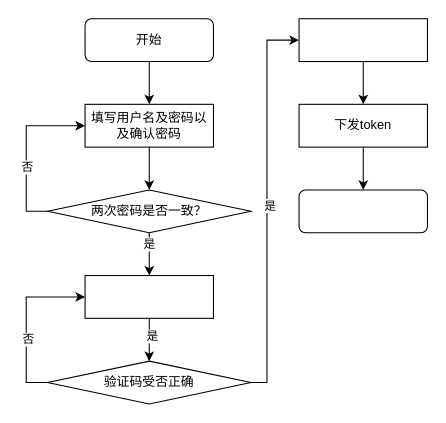
The diagram is 446 pixels wide and 423 high, and some of its shapes have lost their labels. The shapes that lost their labels are listed below. From the top down, each one's centre as x and y in pixels, then its label:
At (x=362, y=40): "创建用户记录".
At (x=362, y=211): "结束".
At (x=148, y=296): "填写邮箱接受验证码".
